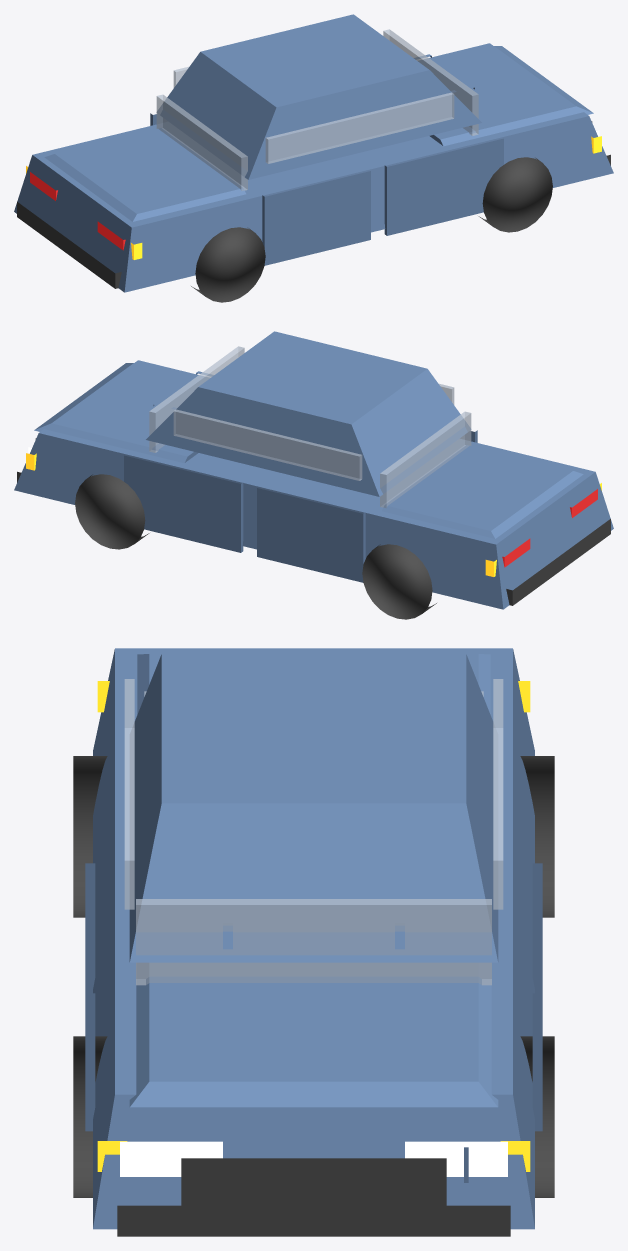
Rendered from sedan.gltf.
3 renders of one model, top to bottom at view 1: azimuth 30°, elevation 25°; view 2: azimuth 150°, elevation 25°; view 3: azimuth 270°, elevation 25°, orthographic. The views are drawn at different scales.
Parts seen in each view (by area): view 1: cabin, body, trunklid, hood, door_FR, door_RR, side_window_R, wheel_FR, wheel_RR, rear_window, bumper_rear, windshield; view 2: cabin, body, trunklid, hood, door_FL, door_RL, side_window_L, wheel_FL, wheel_RL, rear_window, bumper_rear, windshield; view 3: cabin, body, hood, windshield, grille, bumper_front, wheel_RL, wheel_RR, headlight_R, wheel_FL, wheel_FR, headlight_L (+7 smaller).
Boxes of the visible parts, x1=… form: cabin: x1=156, y1=14, x2=481, y2=179; body: x1=14, y1=43, x2=613, y2=292; trunklid: x1=44, y1=128, x2=245, y2=221; hood: x1=422, y1=46, x2=593, y2=146; door_FR: x1=384, y1=138, x2=503, y2=235; door_RR: x1=262, y1=171, x2=370, y2=265; side_window_R: x1=265, y1=92, x2=454, y2=163; wheel_FR: x1=478, y1=157, x2=552, y2=232; wheel_RR: x1=191, y1=227, x2=265, y2=302; rear_window: x1=156, y1=94, x2=247, y2=190; bumper_rear: x1=17, y1=202, x2=121, y2=288; windshield: x1=383, y1=29, x2=478, y2=135; cabin: x1=146, y1=331, x2=471, y2=496; body: x1=14, y1=360, x2=613, y2=609; trunklid: x1=382, y1=445, x2=583, y2=538; hood: x1=34, y1=363, x2=205, y2=463; door_FL: x1=124, y1=455, x2=243, y2=552; door_RL: x1=257, y1=488, x2=365, y2=582; side_window_L: x1=173, y1=409, x2=362, y2=480; wheel_FL: x1=75, y1=474, x2=149, y2=549; wheel_RL: x1=362, y1=544, x2=436, y2=619; rear_window: x1=380, y1=411, x2=471, y2=507; bumper_rear: x1=506, y1=519, x2=610, y2=605; windshield: x1=149, y1=346, x2=244, y2=452; cabin: x1=129, y1=654, x2=498, y2=962; body: x1=93, y1=648, x2=534, y2=1229; hood: x1=129, y1=963, x2=498, y2=1107; windshield: x1=136, y1=899, x2=491, y2=985; grille: x1=181, y1=1158, x2=446, y2=1205; bumper_front: x1=117, y1=1205, x2=510, y2=1236; wheel_RL: x1=520, y1=756, x2=554, y2=917; wheel_RR: x1=73, y1=756, x2=107, y2=917; headlight_R: x1=120, y1=1141, x2=222, y2=1176; wheel_FL: x1=520, y1=1036, x2=554, y2=1197; wheel_FR: x1=73, y1=1036, x2=107, y2=1197; headlight_L: x1=405, y1=1141, x2=507, y2=1176.
Size of the model in its own units: 4.66 by 1.45 by 1.96.
